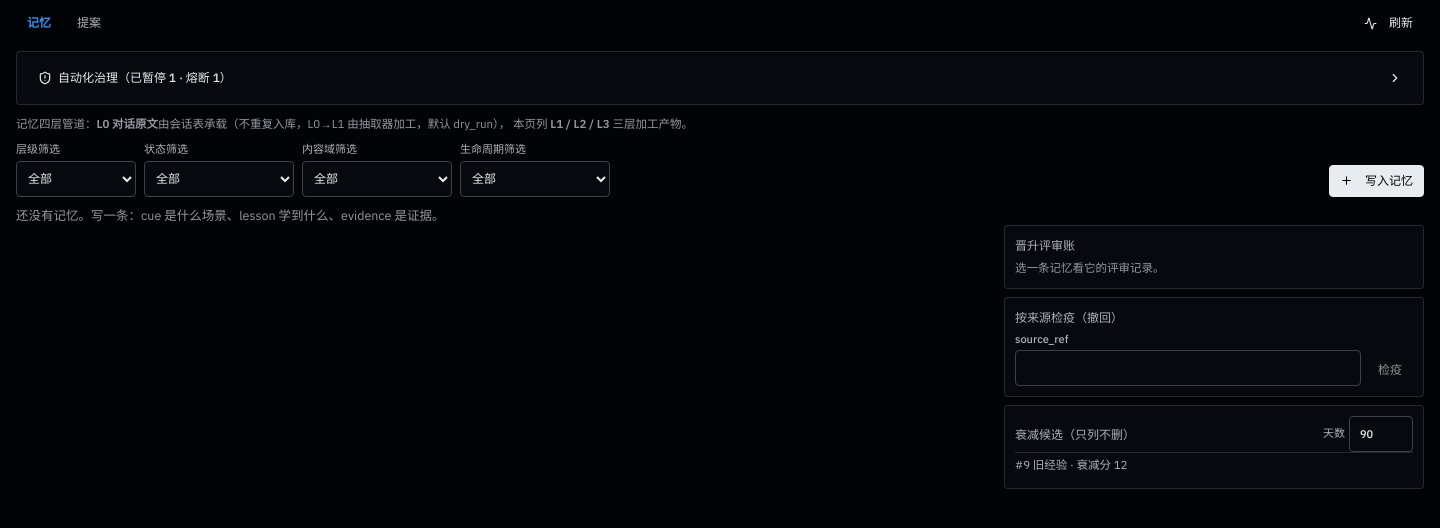
Test: 记忆 tab › 检疫按 source_ref 提交并显示条数；衰减候选列出
Expected: the text "#9 旧经验 · 衰减分 12" is shown, [1015,452,1413,478]
Step 1. Type "sess-1" into the field labelled "source_ref" → x=1188, y=368, box [1015,350,1361,386]
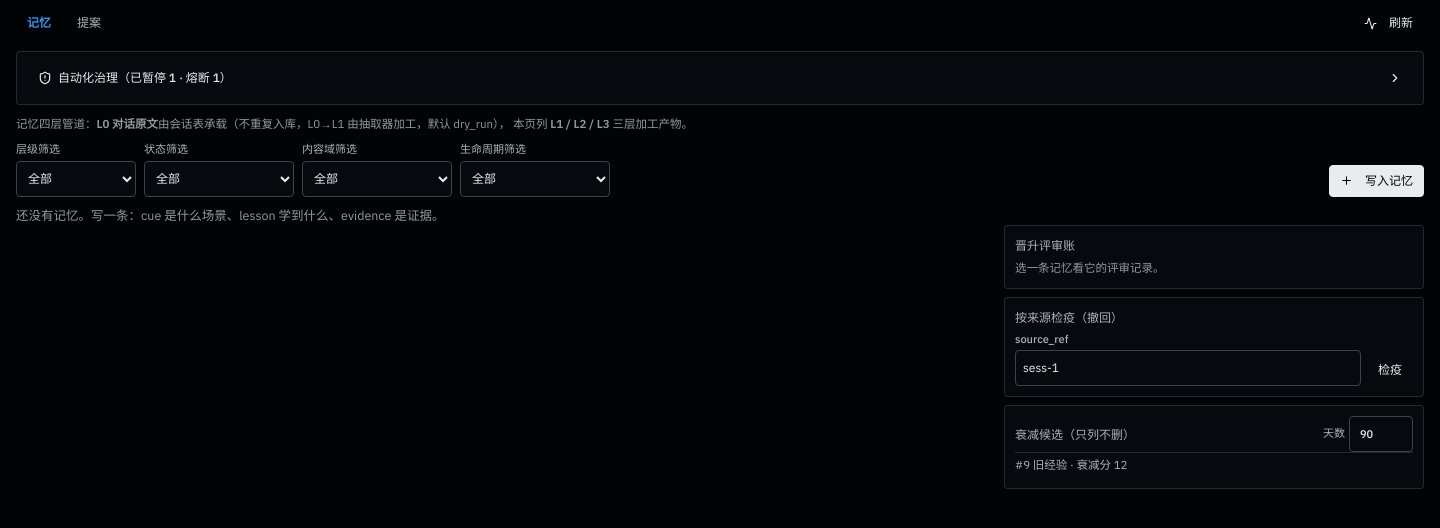
Step 2. Click the button "检疫" → x=1390, y=370, box [1367,354,1413,386]
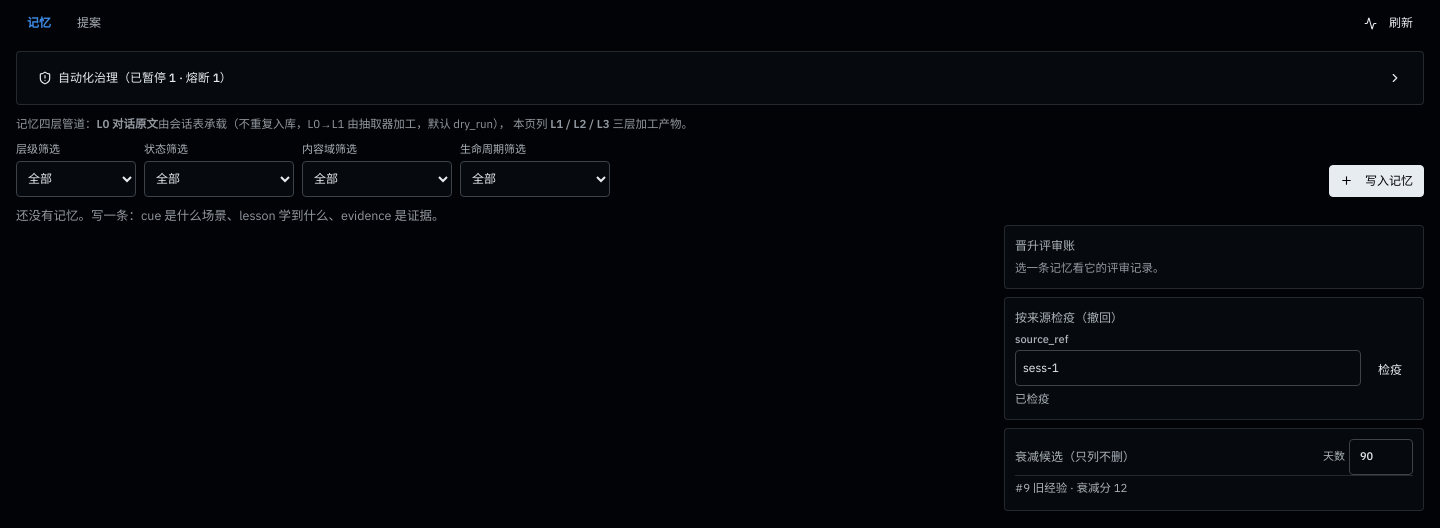
Expected: the message reads "已检疫", [1015,391,1050,406]
